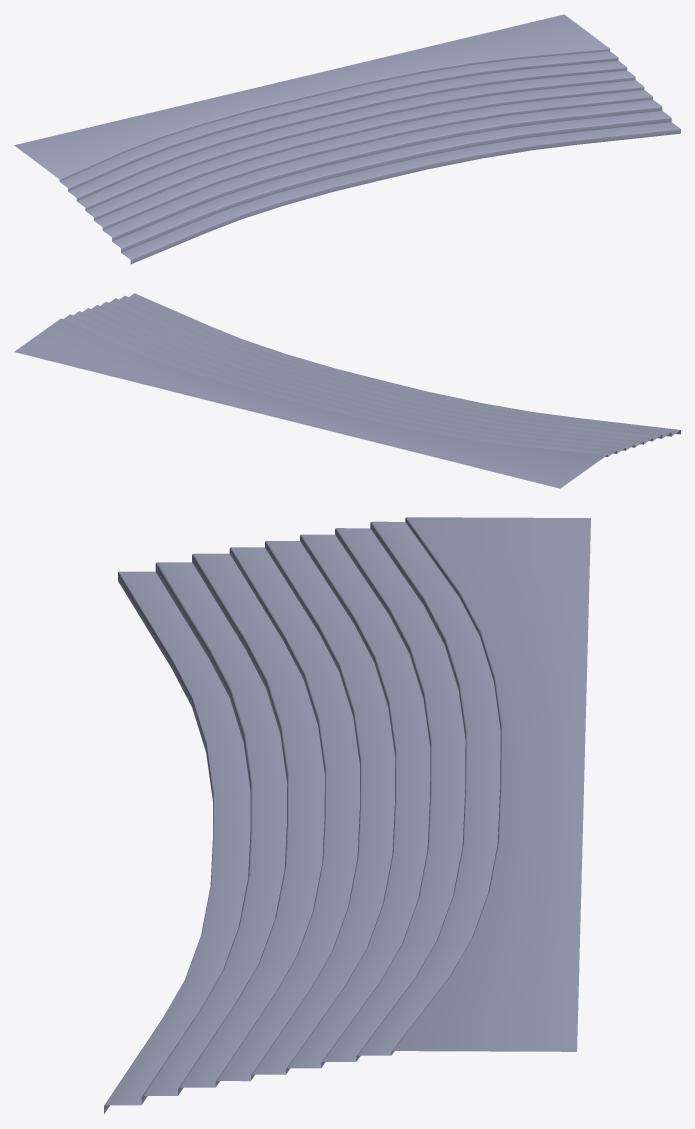
The model's file is Pp_PoolStairs.fbx.
3 renders of one model, top to bottom at view 1: azimuth 30°, elevation 25°; view 2: azimuth 150°, elevation 25°; view 3: azimuth 270°, elevation 25°, orthographic. The views are drawn at different scales.
Visible parts, largest first — view 1: Pp_Stairs; view 2: Pp_Stairs; view 3: Pp_Stairs.
Boxes of the visible parts, x1,y1,x2,y2 form: Pp_Stairs: (14,14,680,264); Pp_Stairs: (14,293,680,488); Pp_Stairs: (104,517,590,1113).
Size of the model in its own units: 2927 by 165 by 1126.
